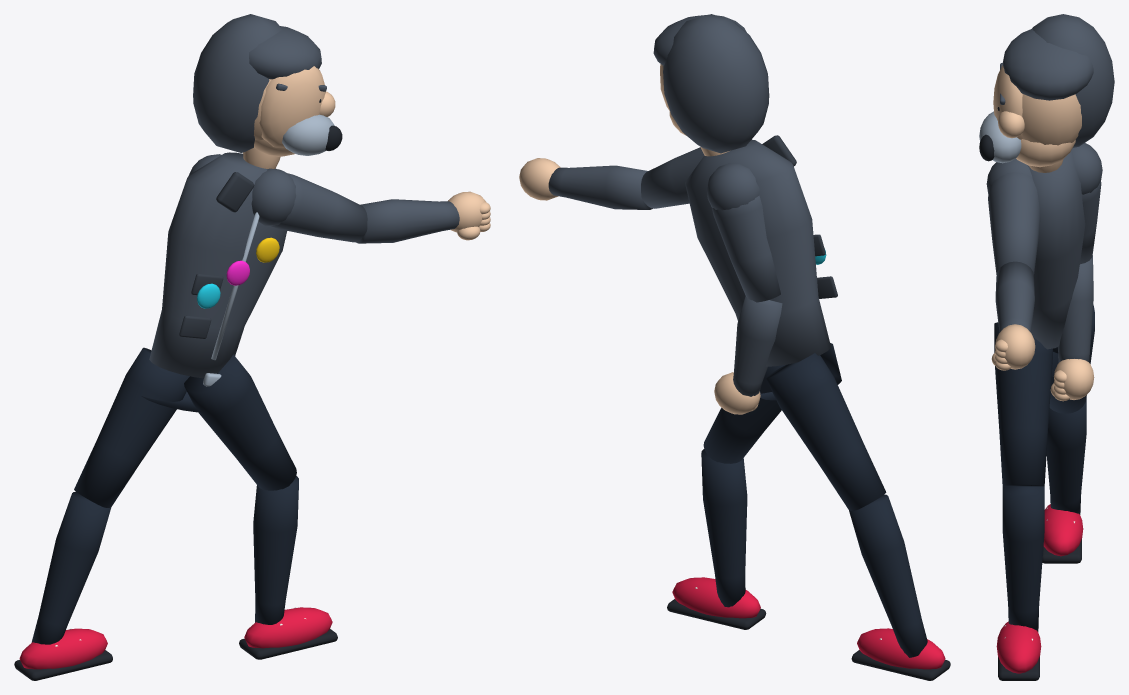
Rendered from tomasz.glb.
The picture shows the model from 3 angles, left to right: view 1: azimuth 30°, elevation 25°; view 2: azimuth 150°, elevation 25°; view 3: azimuth 270°, elevation 25°; orthographic projection. The views are drawn at different scales.
Visible parts, largest first — view 1: Fitted torso.005, Trouser thigh.011, Raised hood, Trouser thigh.010, Lower leg.011, Lower leg.010, Upper arm.010, Forearm.010, Face opening, Hair crown.005, Boot.010, Boot.011 (+7 smaller); view 2: Fitted torso.005, Raised hood, Trouser thigh.011, Lower leg.011, Lower leg.010, Upper arm.011, Forearm.010, Forearm.011, Trouser thigh.010, Upper arm.010, Boot.010, Boot.011 (+6 smaller); view 3: Fitted torso.005, Trouser thigh.010, Lower leg.010, Hair crown.005, Upper arm.010, Raised hood, Lower leg.011, Head.005, Forearm.011, Forearm.010, Boot.010, Boot.011 (+13 smaller).
Part boxes in pixels (<box>): Fitted torso.005: <box>149,152,286,378</box>; Trouser thigh.011: <box>74,347,189,507</box>; Raised hood: <box>193,14,282,152</box>; Trouser thigh.010: <box>184,354,296,490</box>; Lower leg.011: <box>31,491,111,644</box>; Lower leg.010: <box>253,475,298,624</box>; Upper arm.010: <box>271,173,367,242</box>; Forearm.010: <box>355,199,459,243</box>; Face opening: <box>259,66,325,147</box>; Hair crown.005: <box>249,26,321,79</box>; Boot.010: <box>244,607,332,648</box>; Boot.011: <box>19,628,107,669</box>; Fitted torso.005: <box>685,139,831,366</box>; Raised hood: <box>663,14,769,153</box>; Trouser thigh.011: <box>766,353,886,510</box>; Lower leg.011: <box>849,494,927,657</box>; Lower leg.010: <box>701,449,747,607</box>; Upper arm.011: <box>711,195,780,302</box>; Forearm.010: <box>548,165,652,209</box>; Forearm.011: <box>733,296,782,396</box>; Trouser thigh.010: <box>703,365,785,463</box>; Upper arm.010: <box>641,147,704,208</box>; Boot.010: <box>672,577,760,618</box>; Boot.011: <box>857,628,945,669</box>; Fitted torso.005: <box>1027,150,1085,349</box>; Trouser thigh.010: <box>994,322,1052,486</box>; Lower leg.010: <box>1002,486,1044,631</box>; Hair crown.005: <box>1002,28,1093,100</box>; Upper arm.010: <box>988,172,1040,274</box>; Raised hood: <box>1032,14,1114,147</box>; Lower leg.011: <box>1046,398,1086,514</box>; Head.005: <box>1022,94,1081,145</box>; Forearm.011: <box>1058,255,1093,362</box>; Forearm.010: <box>995,261,1034,332</box>; Boot.010: <box>996,621,1041,673</box>; Boot.011: <box>1043,504,1083,556</box>.
Size of the model in its own units: 114 by 151 by 29.
